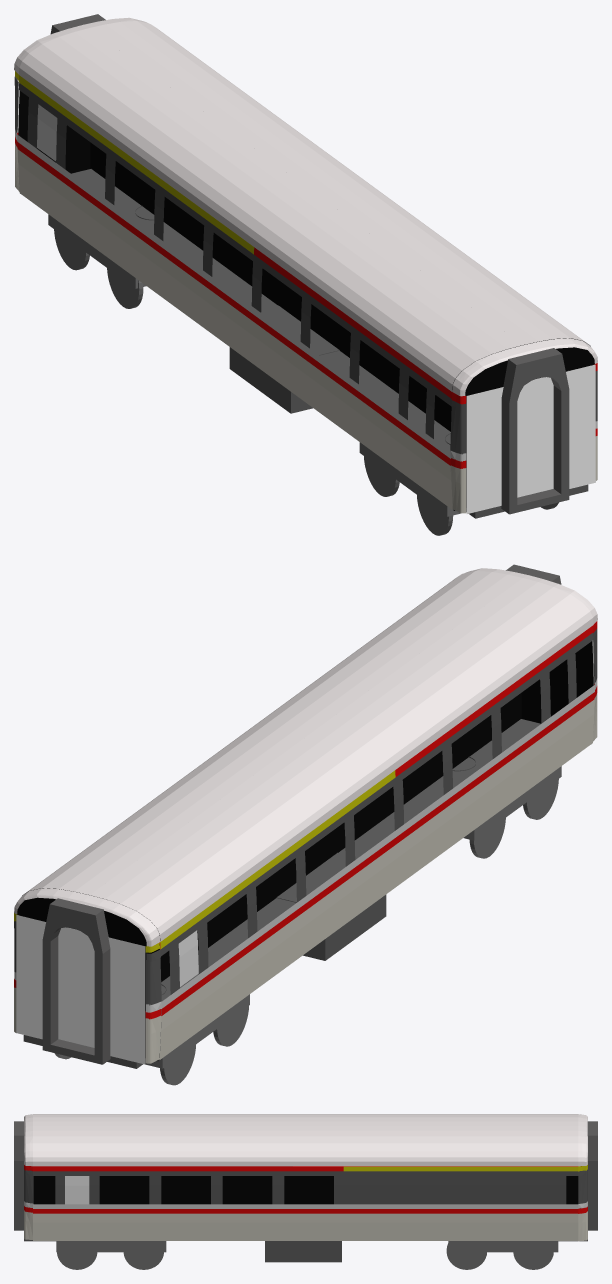
File: br-mk2-rfb-ic.dae
3 views of the same model, one above another, from view 1: azimuth 30°, elevation 25°; view 2: azimuth 150°, elevation 25°; view 3: azimuth 270°, elevation 25° (orthographic). The views are drawn at different scales.
Visible parts, largest first — view 1: Suzanne_001, Plane_031, Plane_100, Plane_009, Tube_002, Plane_002, Plane_087, Plane_088, Plane_029, Plane_030, Suzanne, Cube (+10 smaller); view 2: Suzanne_001, Plane_031, Plane_001, Plane_009, Tube_003, Plane_002, Plane_087, Plane_088, Plane_029, Plane_030, Suzanne_006, Cube (+10 smaller); view 3: Suzanne_001, Plane_007, Plane_009, Plane_020, Plane_006, Plane_004, Plane_005, Plane_022, Cube, Cube_042, Cube_002, Tube_003 (+19 smaller).
Boxes of the visible parts, x1,y1,x2,y2 form: Suzanne_001: [19, 21, 590, 391]; Plane_031: [18, 149, 452, 509]; Plane_100: [466, 364, 595, 513]; Plane_009: [90, 142, 451, 431]; Tube_002: [501, 348, 569, 514]; Plane_002: [71, 169, 450, 450]; Plane_087: [19, 75, 451, 398]; Plane_088: [19, 83, 452, 406]; Plane_029: [17, 135, 450, 458]; Plane_030: [17, 142, 450, 465]; Suzanne: [452, 338, 597, 396]; Cube: [229, 305, 339, 413]; Suzanne_001: [22, 571, 593, 941]; Plane_031: [159, 699, 594, 1059]; Plane_001: [16, 915, 145, 1064]; Plane_009: [158, 693, 521, 981]; Tube_003: [42, 898, 110, 1064]; Plane_002: [159, 719, 540, 1057]; Plane_087: [159, 625, 593, 949]; Plane_088: [160, 633, 593, 956]; Plane_029: [161, 685, 594, 1008]; Plane_030: [161, 692, 594, 1015]; Suzanne_006: [14, 888, 160, 946]; Cube: [276, 852, 386, 960]; Suzanne_001: [33, 1114, 578, 1166]; Plane_007: [33, 1213, 578, 1240]; Plane_009: [33, 1176, 580, 1208]; Plane_020: [334, 1176, 554, 1204]; Plane_006: [33, 1166, 578, 1171]; Plane_004: [33, 1171, 578, 1175]; Plane_005: [33, 1209, 578, 1213]; Plane_022: [33, 1204, 578, 1208]; Cube: [265, 1241, 341, 1262]; Cube_042: [56, 1241, 166, 1252]; Cube_002: [448, 1241, 558, 1252]; Tube_003: [587, 1121, 597, 1230].
Size of the model in its own units: 2.06 by 11.39 by 2.72.
